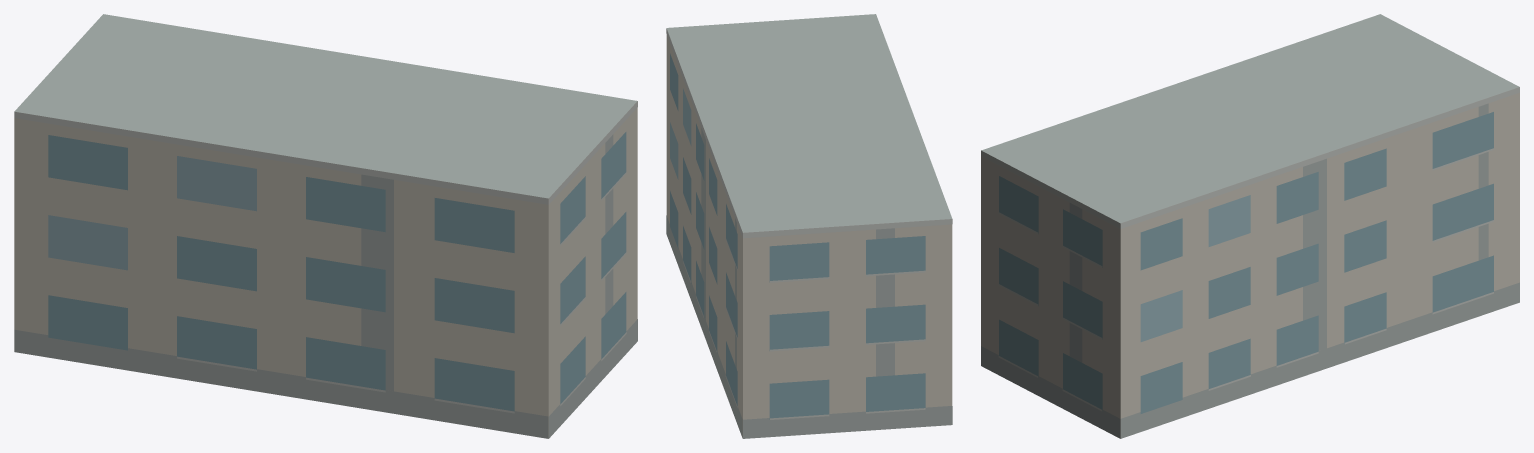
File: residential-b5f9eb09-69fc-4a81-b653-9b4e176fb9e7.glb
3 views of the same model, side by side, from view 1: azimuth 30°, elevation 25°; view 2: azimuth 150°, elevation 25°; view 3: azimuth 270°, elevation 25° (orthographic). The views are drawn at different scales.
Parts seen in each view (by area): view 1: residential-b5f9eb09-69fc-4a81-b653-9b4e176fb9e7.tmp; view 2: residential-b5f9eb09-69fc-4a81-b653-9b4e176fb9e7.tmp; view 3: residential-b5f9eb09-69fc-4a81-b653-9b4e176fb9e7.tmp.
Part boxes in pixels (<box>): residential-b5f9eb09-69fc-4a81-b653-9b4e176fb9e7.tmp: <box>14,14,637,438</box>; residential-b5f9eb09-69fc-4a81-b653-9b4e176fb9e7.tmp: <box>666,14,952,438</box>; residential-b5f9eb09-69fc-4a81-b653-9b4e176fb9e7.tmp: <box>981,14,1519,438</box>.
Size of the model in its own units: 19.07 by 9.15 by 20.74.
